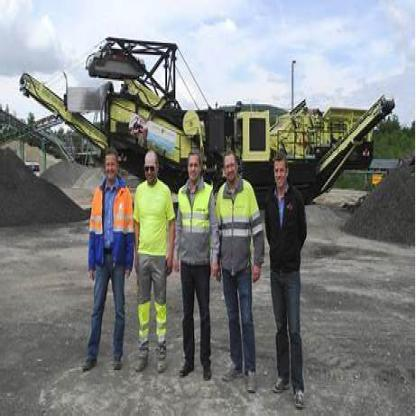person: (259, 127, 310, 414), (81, 132, 130, 388), (216, 134, 260, 397), (177, 144, 218, 387), (131, 139, 172, 372)
